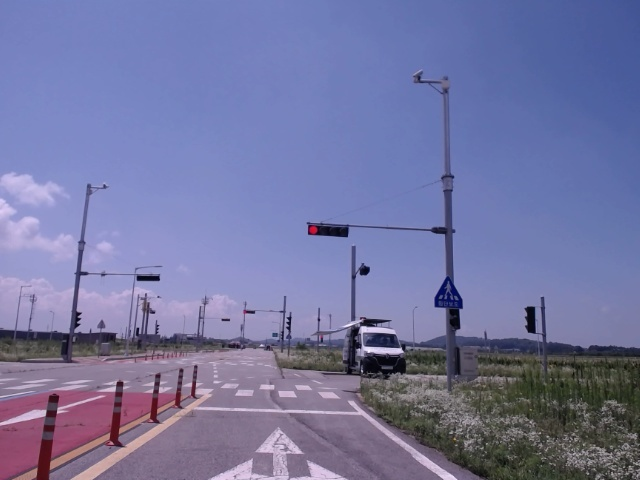red_4: (308, 225, 348, 237)
